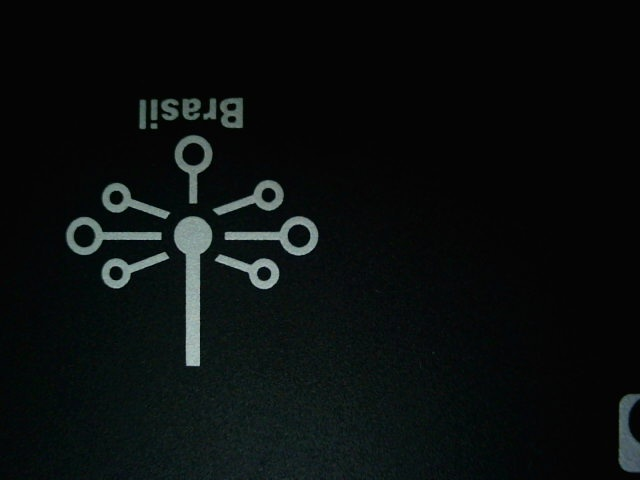BG_Brasil: (47, 80, 325, 381)
